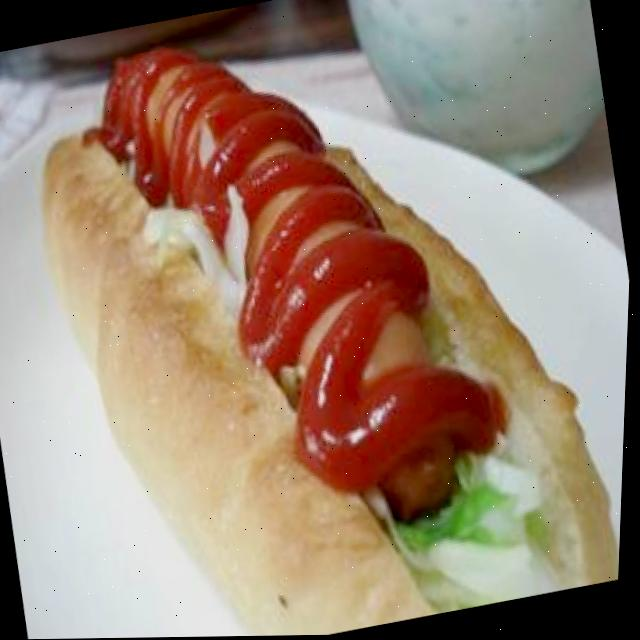汉堡快餐: (8, 0, 640, 640)
